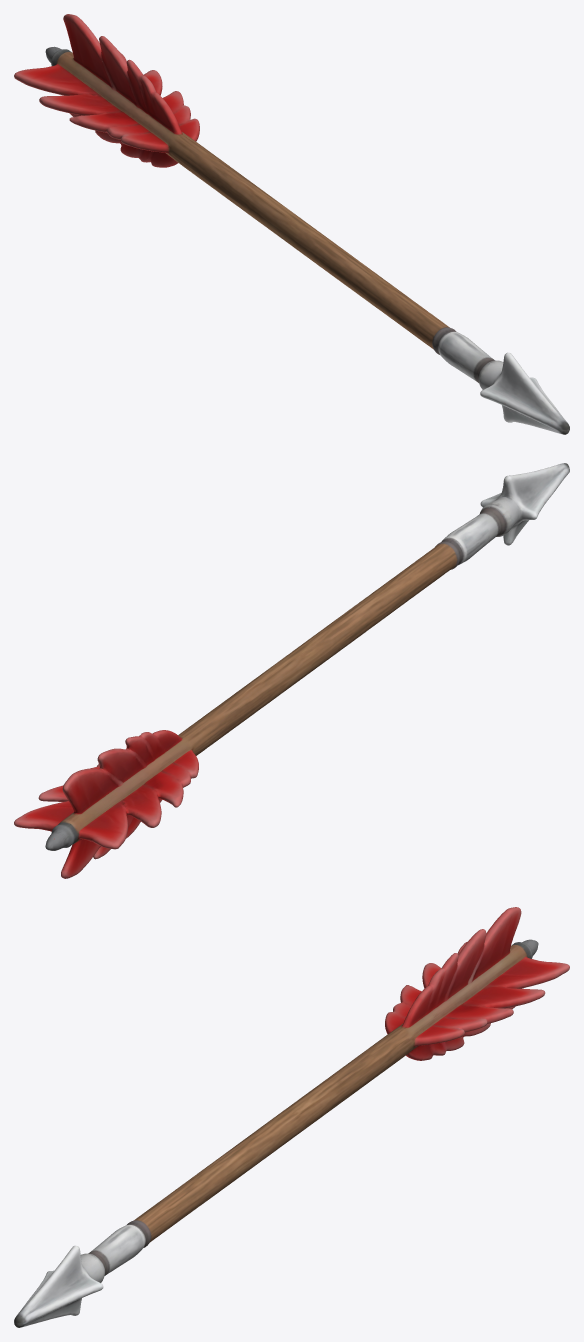
The model's file is arrow.glb.
3 renders of one model, top to bottom at view 1: azimuth 30°, elevation 25°; view 2: azimuth 150°, elevation 25°; view 3: azimuth 330°, elevation 25°, orthographic.
Visible parts, largest first — view 1: world; view 2: world; view 3: world.
Boxes of the visible parts, bbox=[...] form: world: bbox=[14, 14, 569, 434]; world: bbox=[14, 463, 569, 878]; world: bbox=[14, 907, 569, 1327].
Bounding box in the file's own units: 0.1297 × 0.1079 × 0.9967.
1 material, 1 textured.
